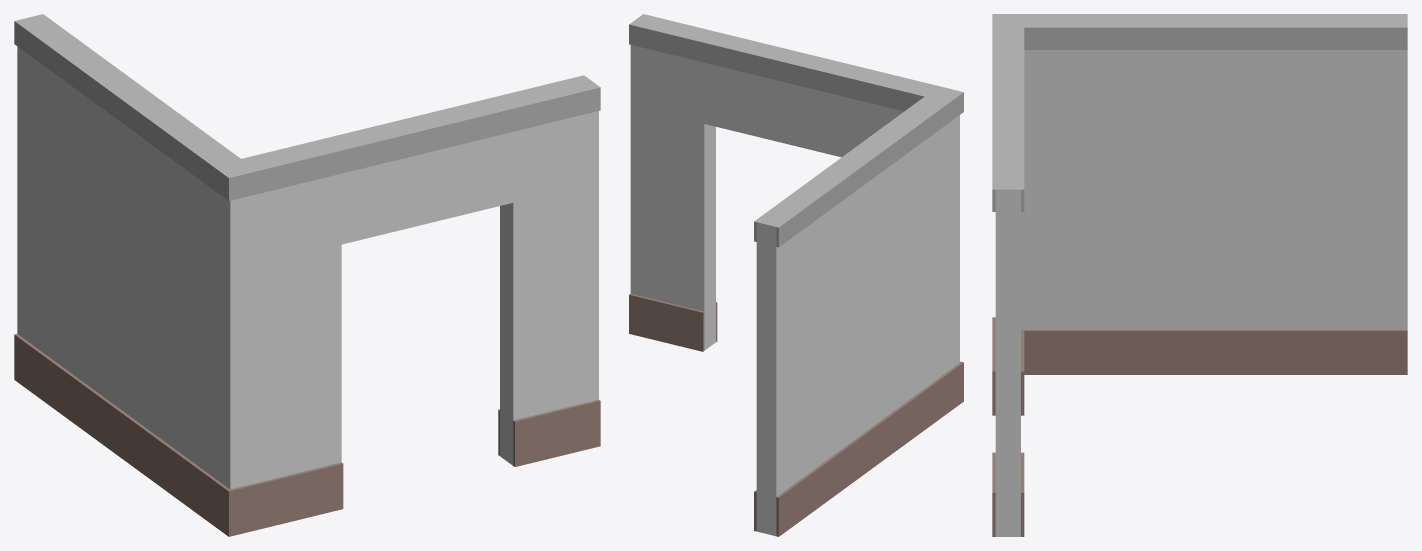
The model's file is Wall03-01.fbx.
3 views of the same model, side by side, from view 1: azimuth 30°, elevation 25°; view 2: azimuth 150°, elevation 25°; view 3: azimuth 270°, elevation 25° (orthographic). The views are drawn at different scales.
Parts seen in each view (by area): view 1: Wall03-01; view 2: Wall03-01; view 3: Wall03-01.
Boxes of the visible parts, x1,y1,x2,y2 form: Wall03-01: (14,14,600,536); Wall03-01: (629,14,963,536); Wall03-01: (992,14,1407,536).
Bounding box in the file's own units: 3.25 × 3.25 × 3.
